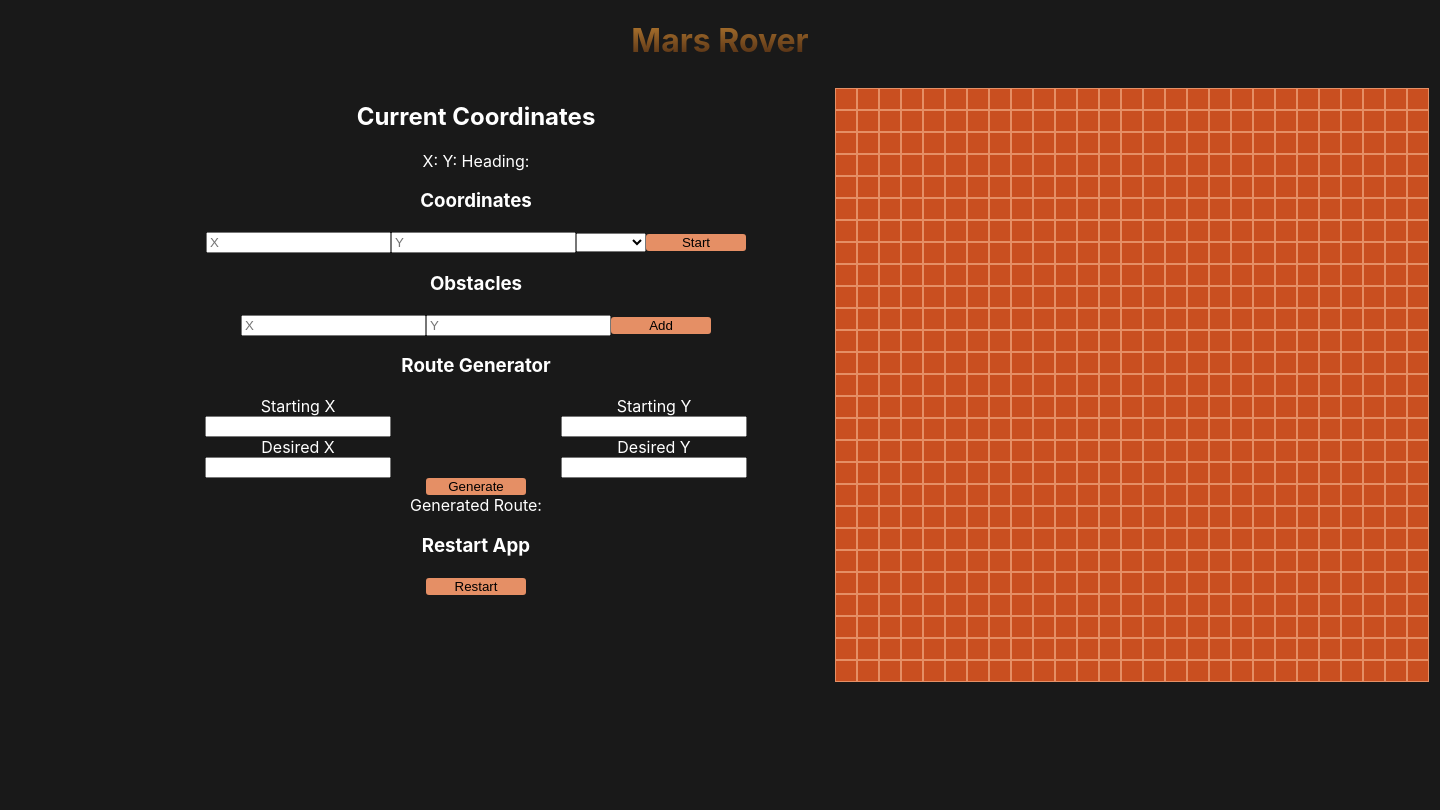
Scenario: Generating route for the rover
Step 1. Type "4" into the number field with test id "xStart" → (298, 426), box [205,416,391,437]
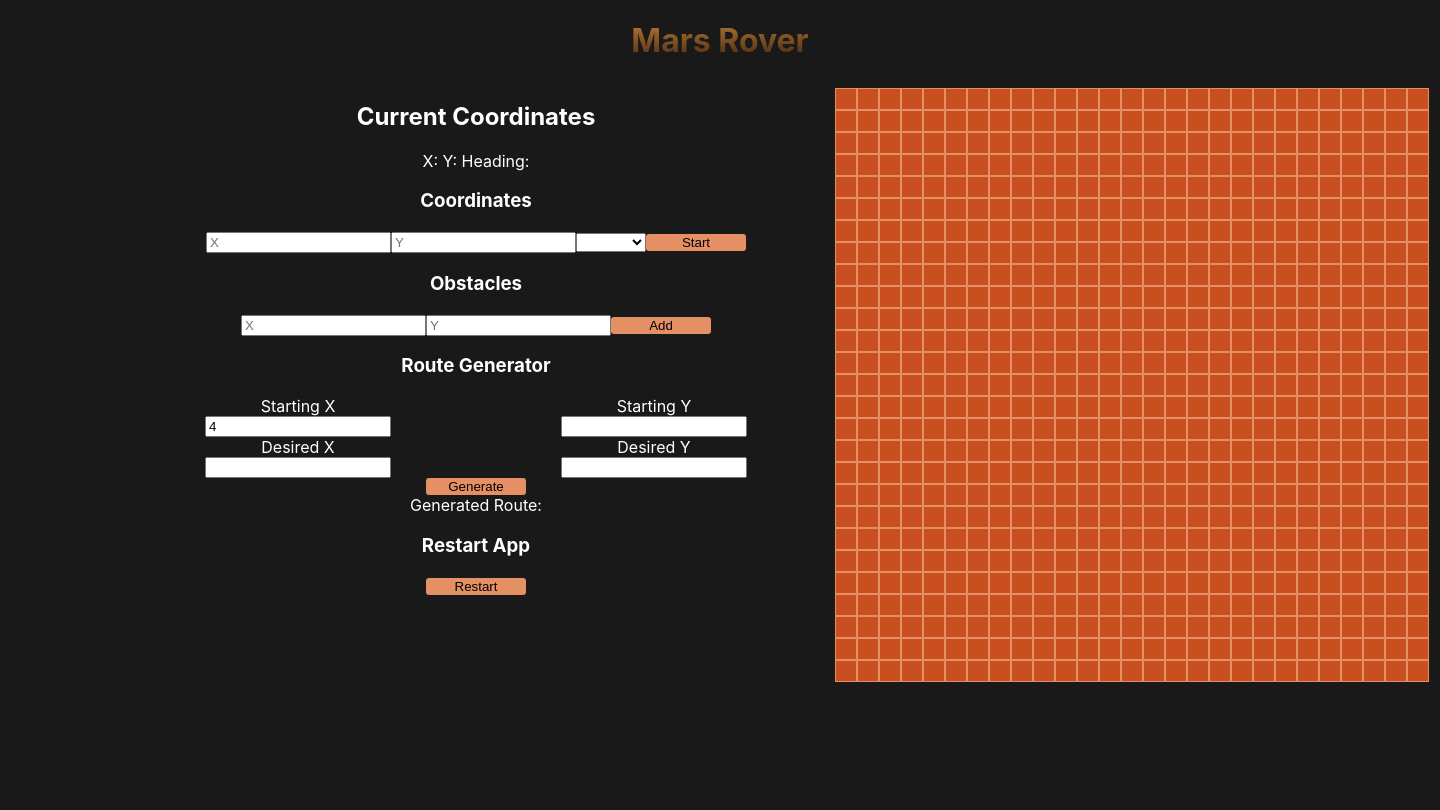
Step 2. Type "3" into the number field with test id "yStart" → (654, 426), box [561,416,747,437]
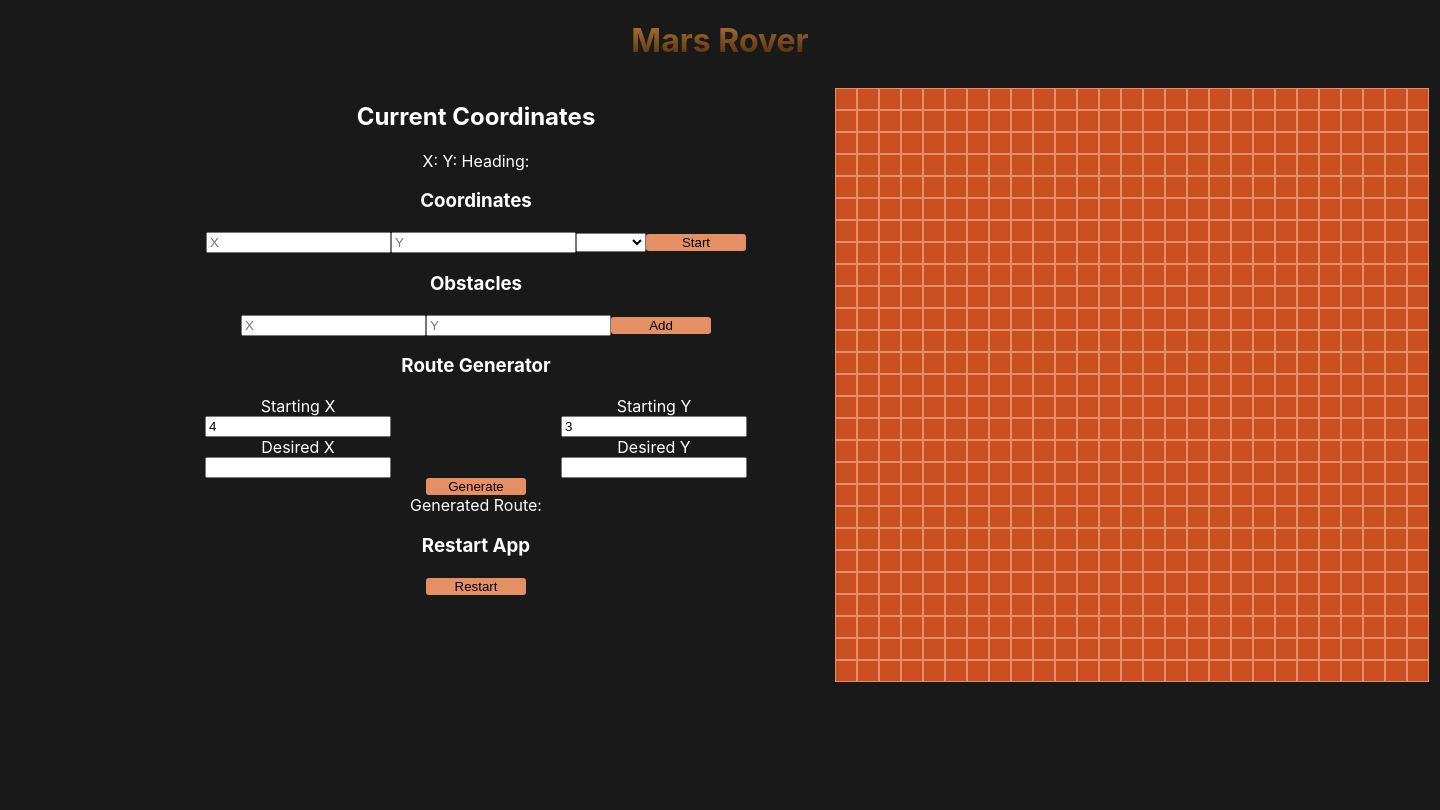
Step 3. Type "5" into the number field with test id "xDesire" → (298, 468), box [205,457,391,478]
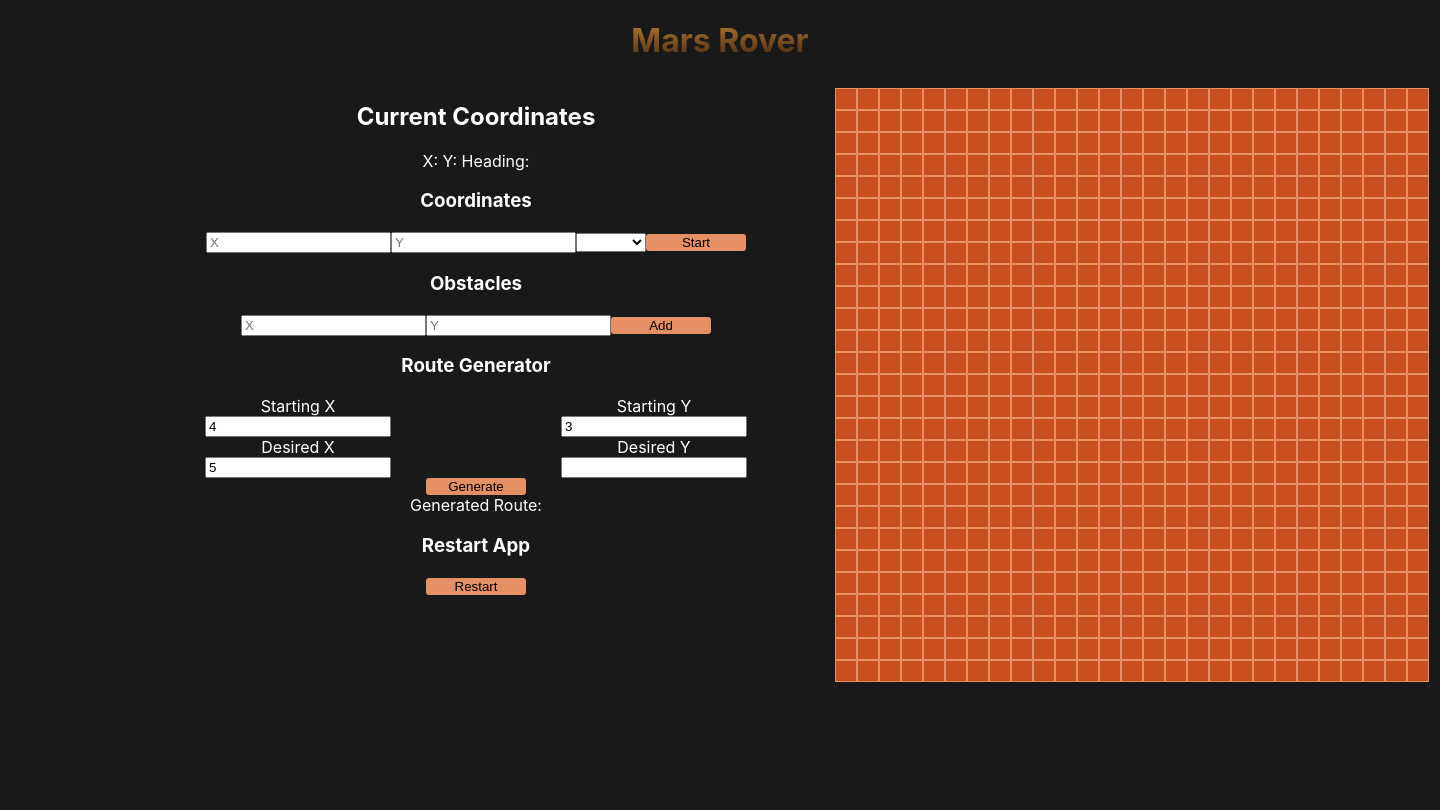
Step 4. Type "5" into the number field with test id "yDesire" → (654, 468), box [561,457,747,478]
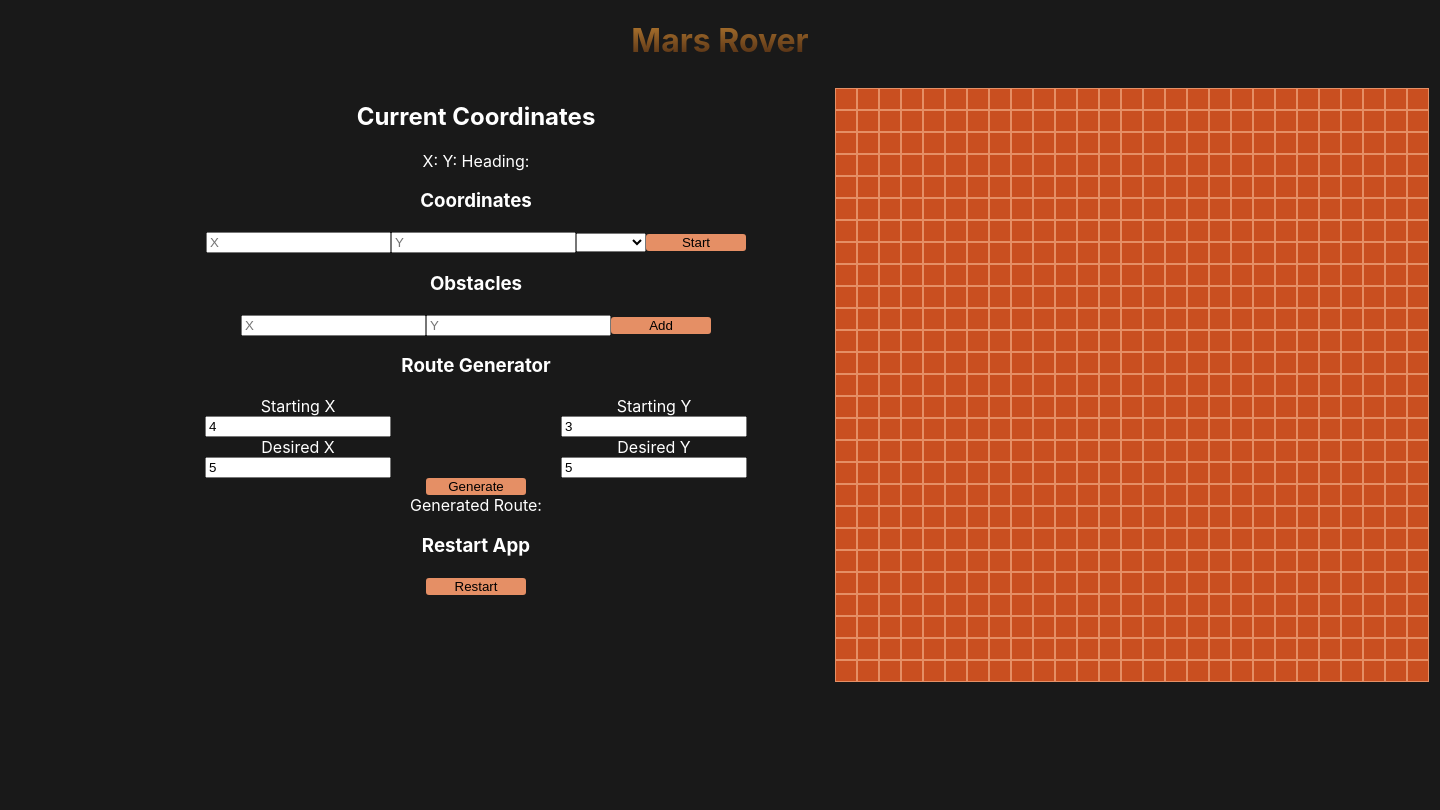
Step 5. Click the button with test id "generate" → click(476, 486), box [426,478,526,495]
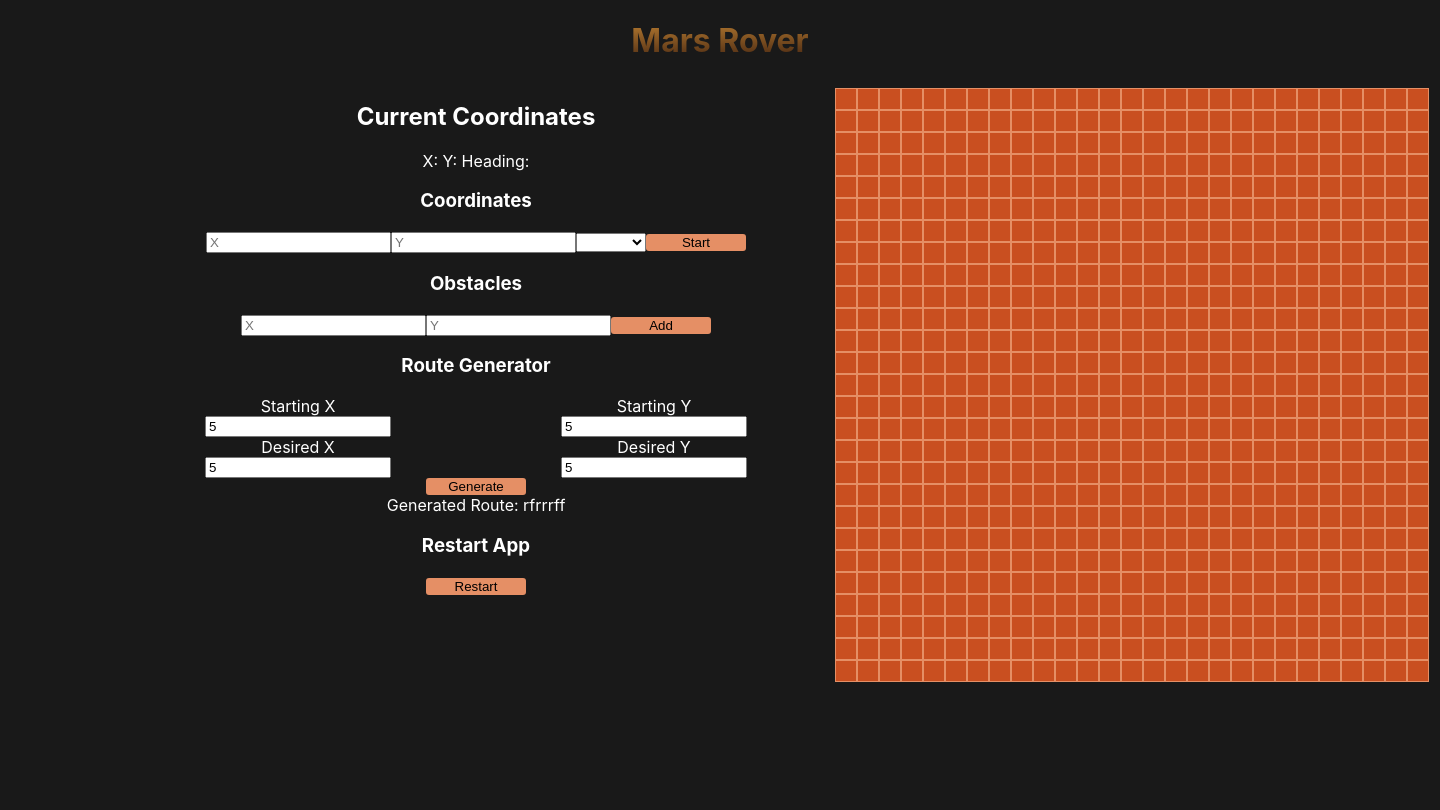
Check: the text with test id "route" reads "rfrrrff", box [523,495,565,515]
